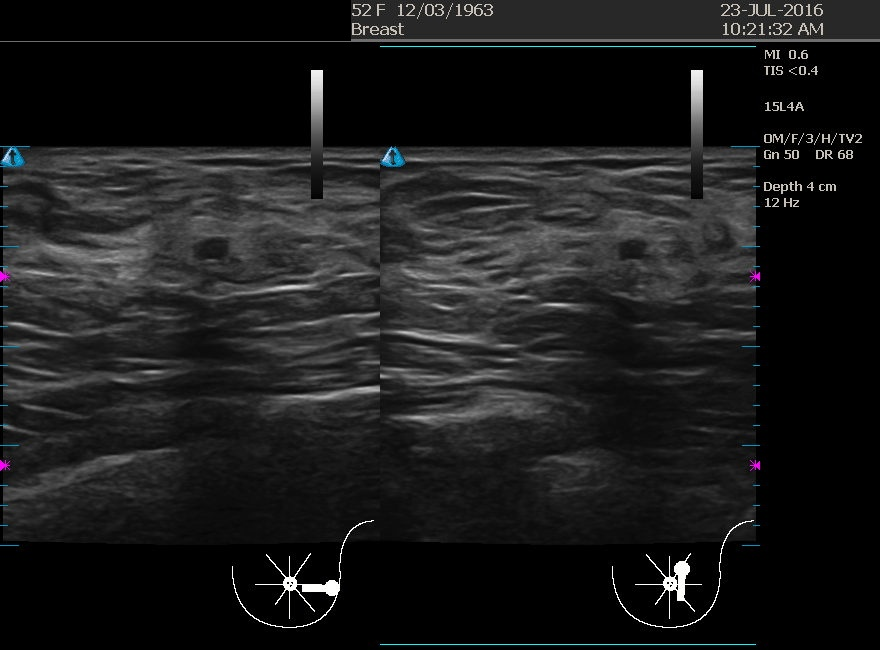BIRADS_2: (90, 166, 290, 366), (468, 221, 668, 421)
